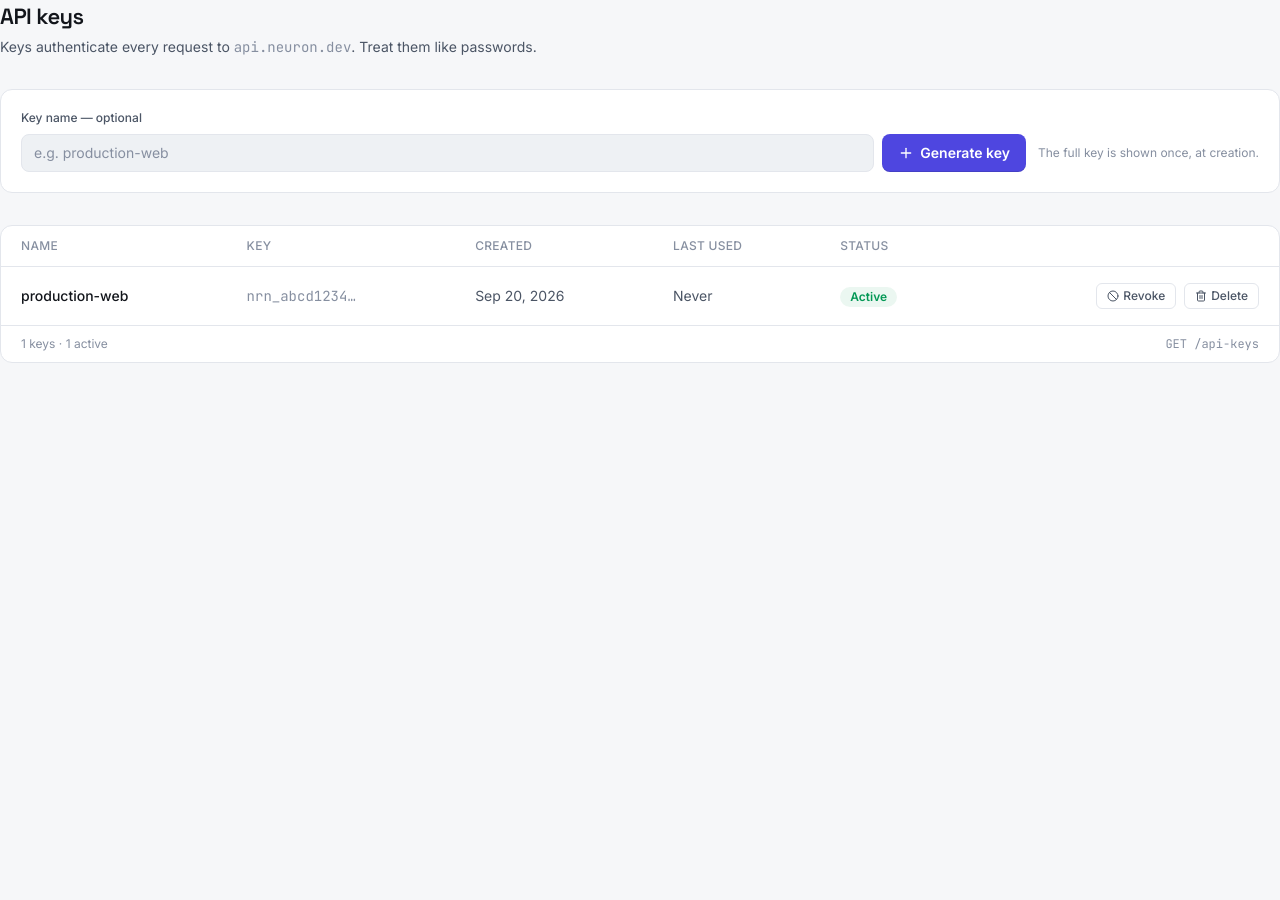
ApiKeysSection › closes without deleting when cancelled
Click the button "Delete": {"x": 1222, "y": 296} top-left (1184, 283), bottom-right (1259, 309)
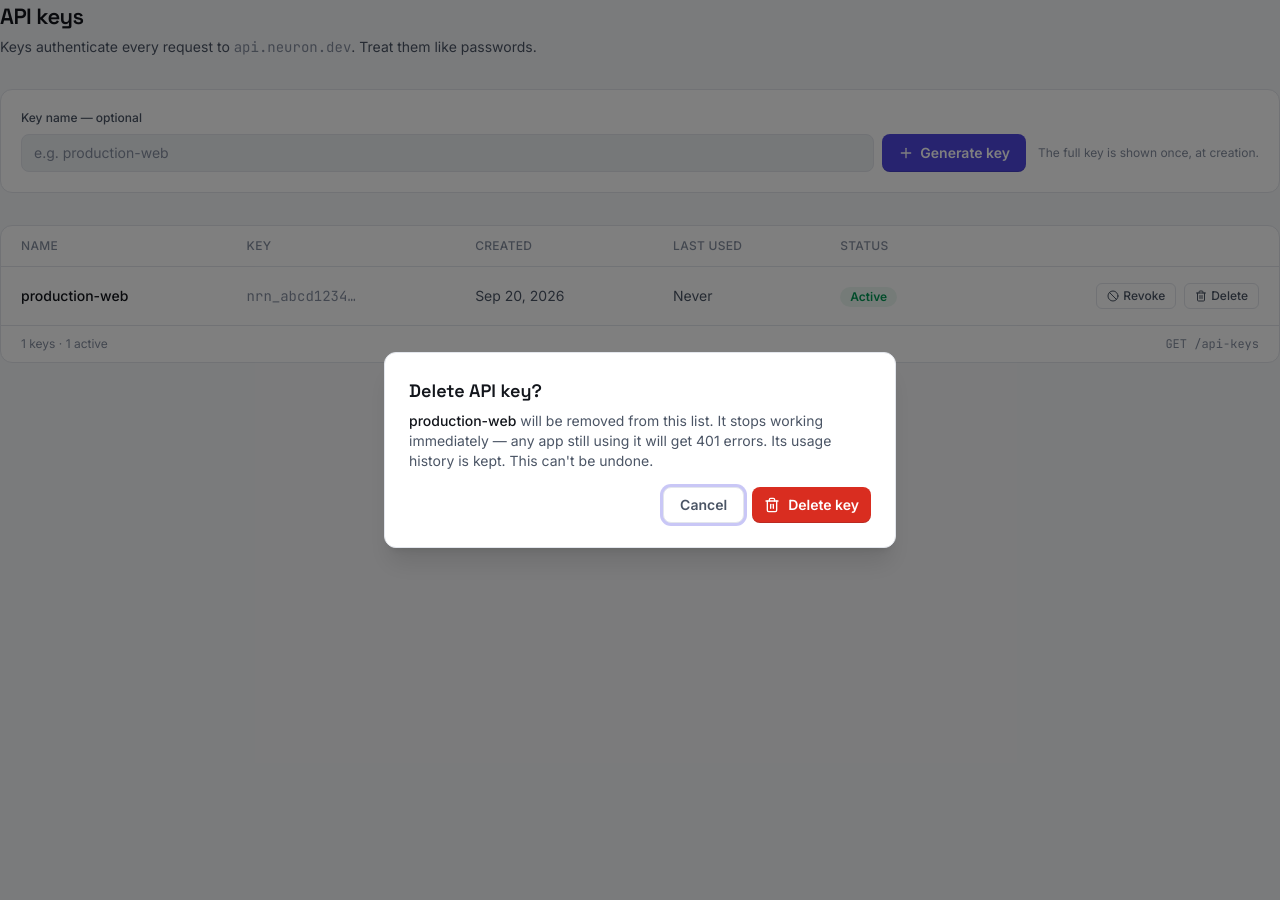
Click the button "Cancel": {"x": 704, "y": 505} top-left (663, 487), bottom-right (744, 523)
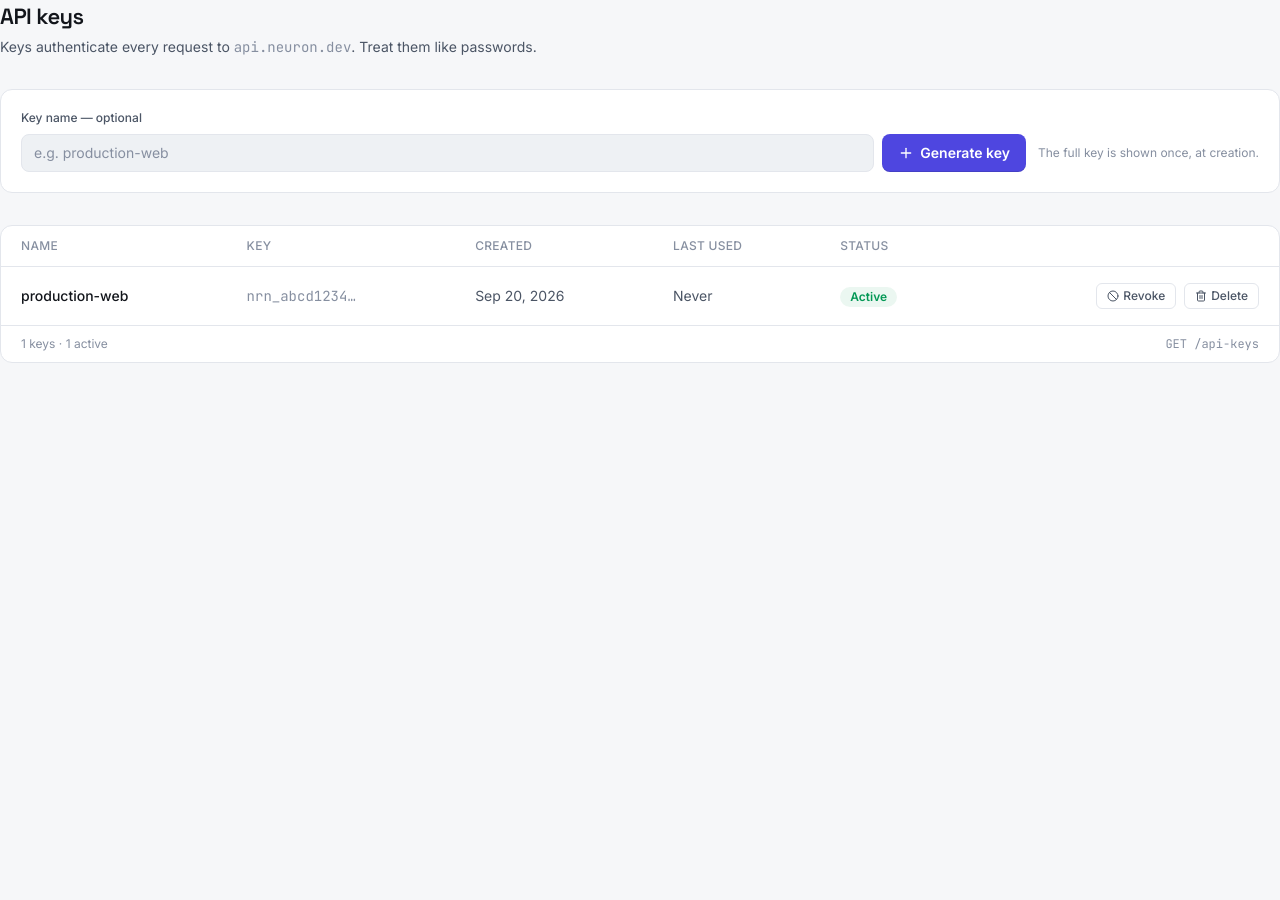
Expected: the dialog is gone
